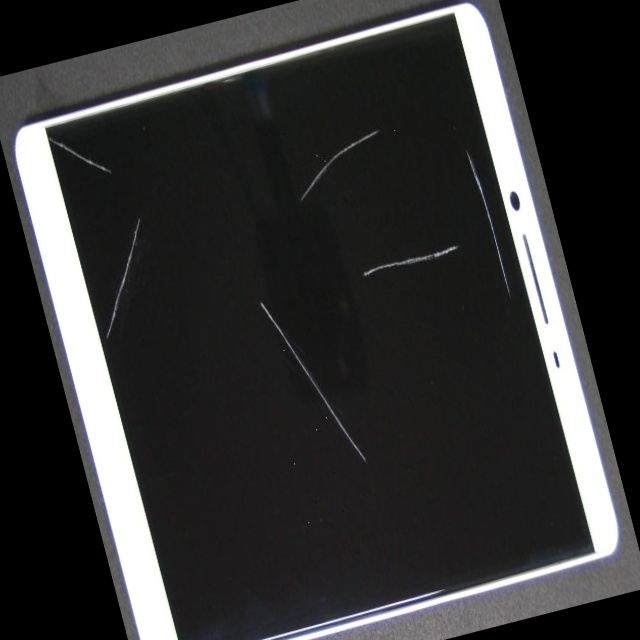scratch: (49, 13, 454, 592), (141, 89, 453, 372)
